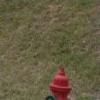Hydrant: (39, 53, 76, 96)
